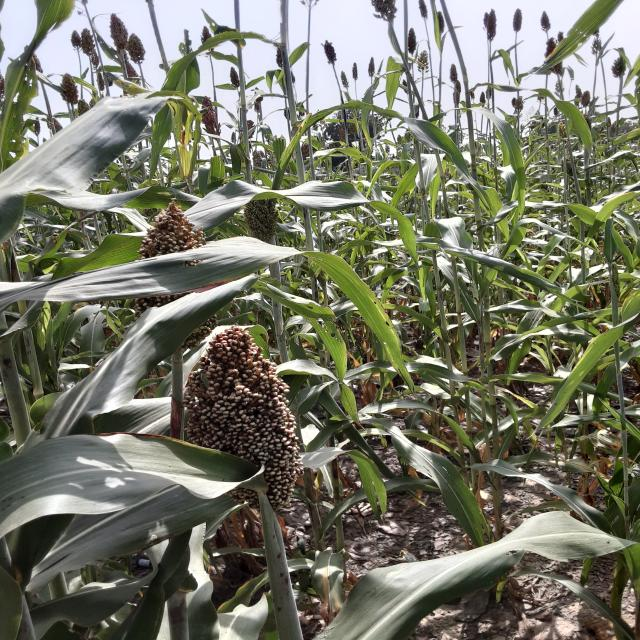UnripeSorghum: (162, 326, 335, 483)
